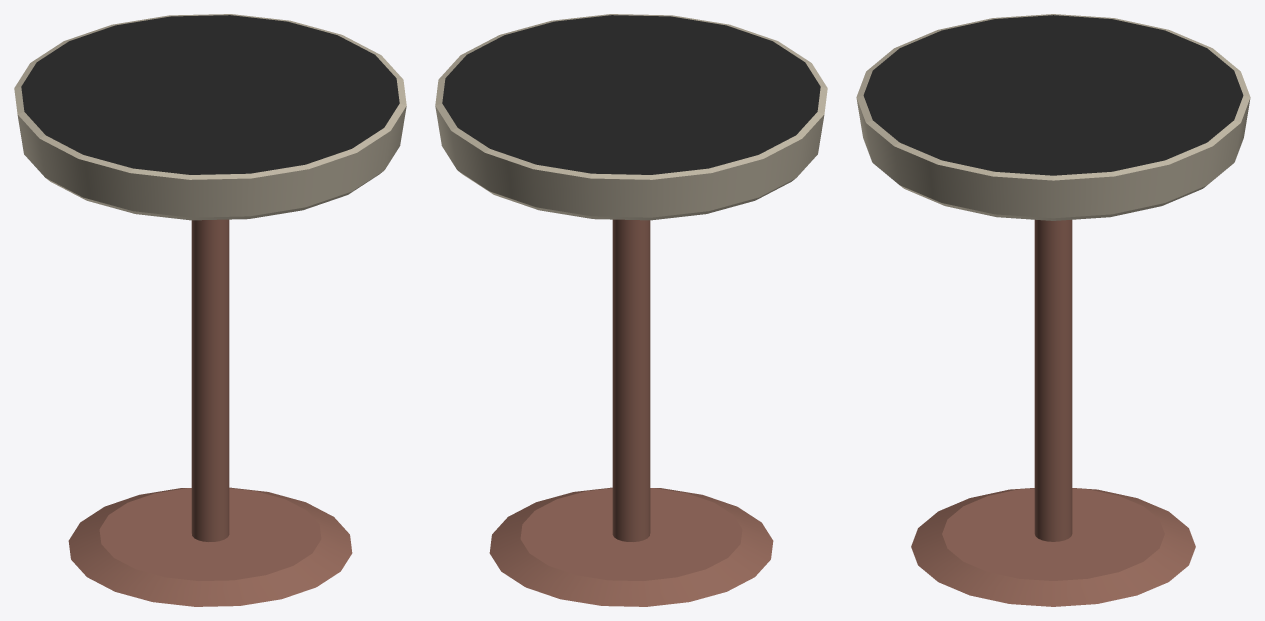
Rendered from SM_Stool.fbx.
3 views of the same model, side by side, from view 1: azimuth 30°, elevation 25°; view 2: azimuth 150°, elevation 25°; view 3: azimuth 270°, elevation 25° (orthographic).
Visible parts, largest first — view 1: polySurface84; view 2: polySurface84; view 3: polySurface84.
Boxes of the visible parts, bbox=[...] form: polySurface84: bbox=[14, 14, 406, 606]; polySurface84: bbox=[435, 14, 827, 606]; polySurface84: bbox=[856, 14, 1250, 606].
Size of the model in its own units: 58.07 by 73.38 by 58.08.
